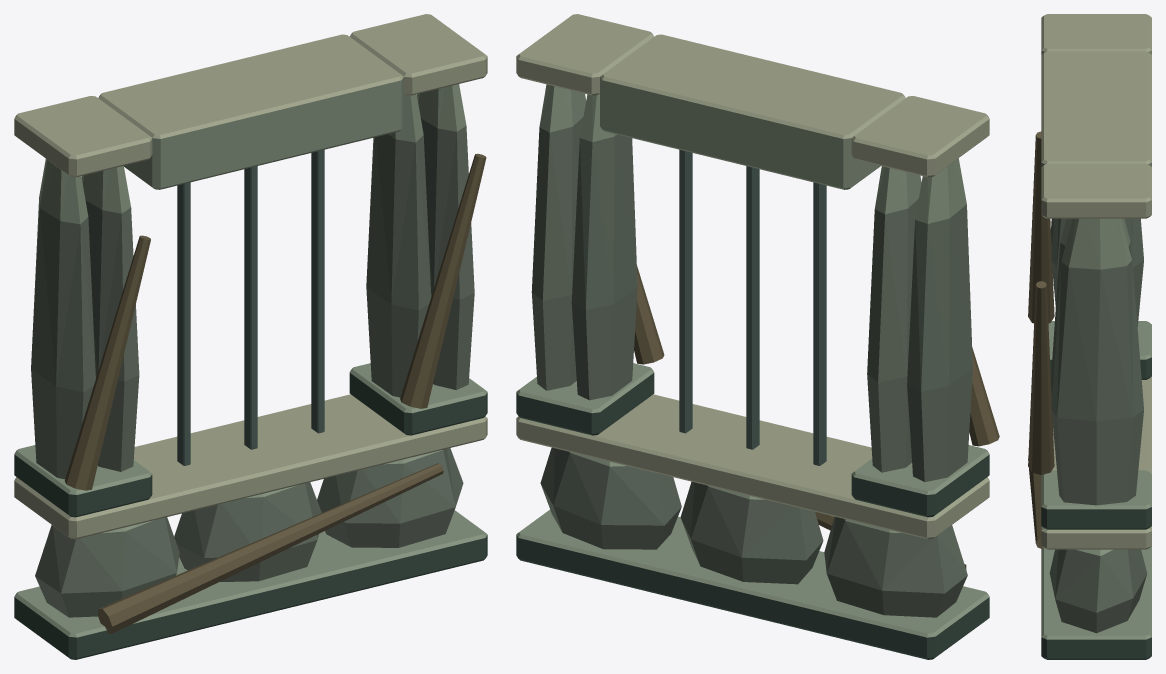
Rendered from wall-window.glb.
3 views of the same model, side by side, from view 1: azimuth 30°, elevation 25°; view 2: azimuth 150°, elevation 25°; view 3: azimuth 270°, elevation 25° (orthographic). The views are drawn at different scales.
Parts seen in each view (by area): view 1: wall-window__body; view 2: wall-window__body; view 3: wall-window__body.
Boxes of the visible parts, x1=… form: wall-window__body: x1=14, y1=14, x2=487, y2=659; wall-window__body: x1=516, y1=14, x2=999, y2=659; wall-window__body: x1=1028, y1=14, x2=1151, y2=659.
Size of the model in its own units: 2.04 by 2.3 by 0.56.
